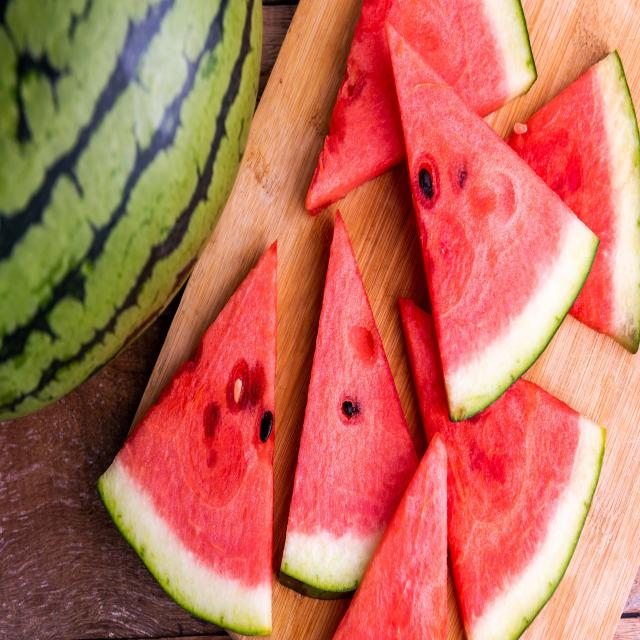dua hau: (386, 16, 599, 421), (399, 298, 604, 638), (99, 244, 277, 634), (281, 217, 418, 596), (306, 0, 537, 215), (507, 52, 640, 352), (334, 439, 447, 640)
